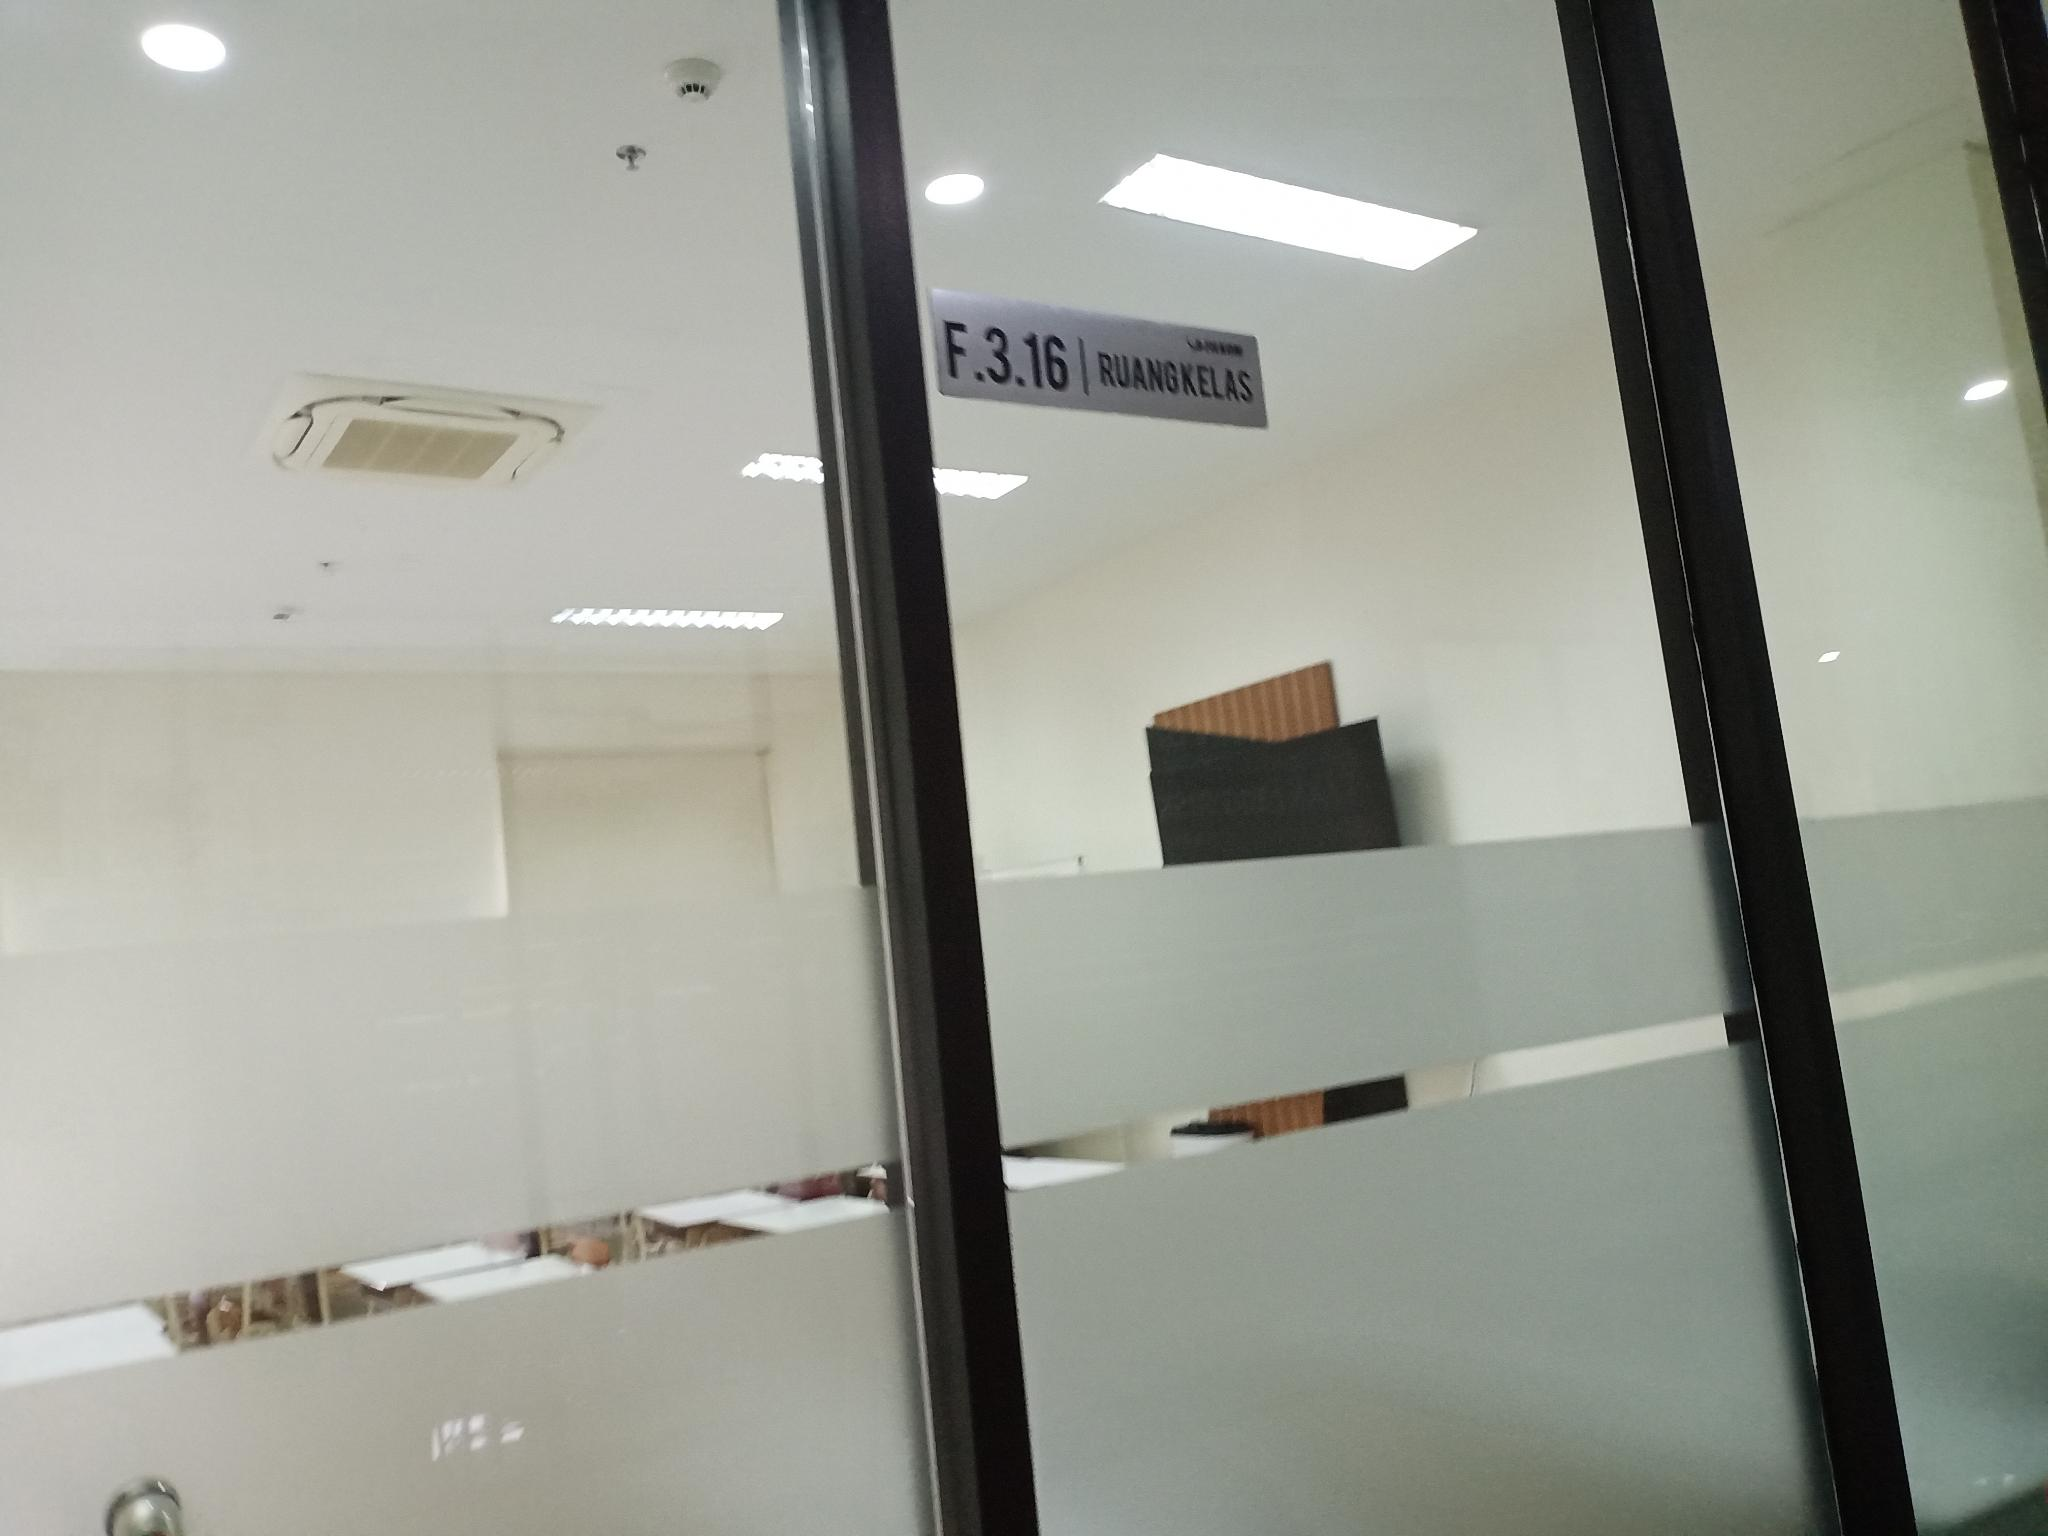plate: (930, 284, 1268, 428)
